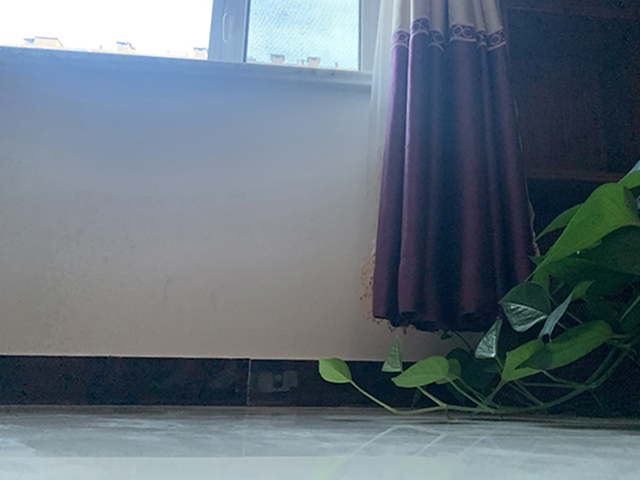curtain: (360, 1, 541, 338)
